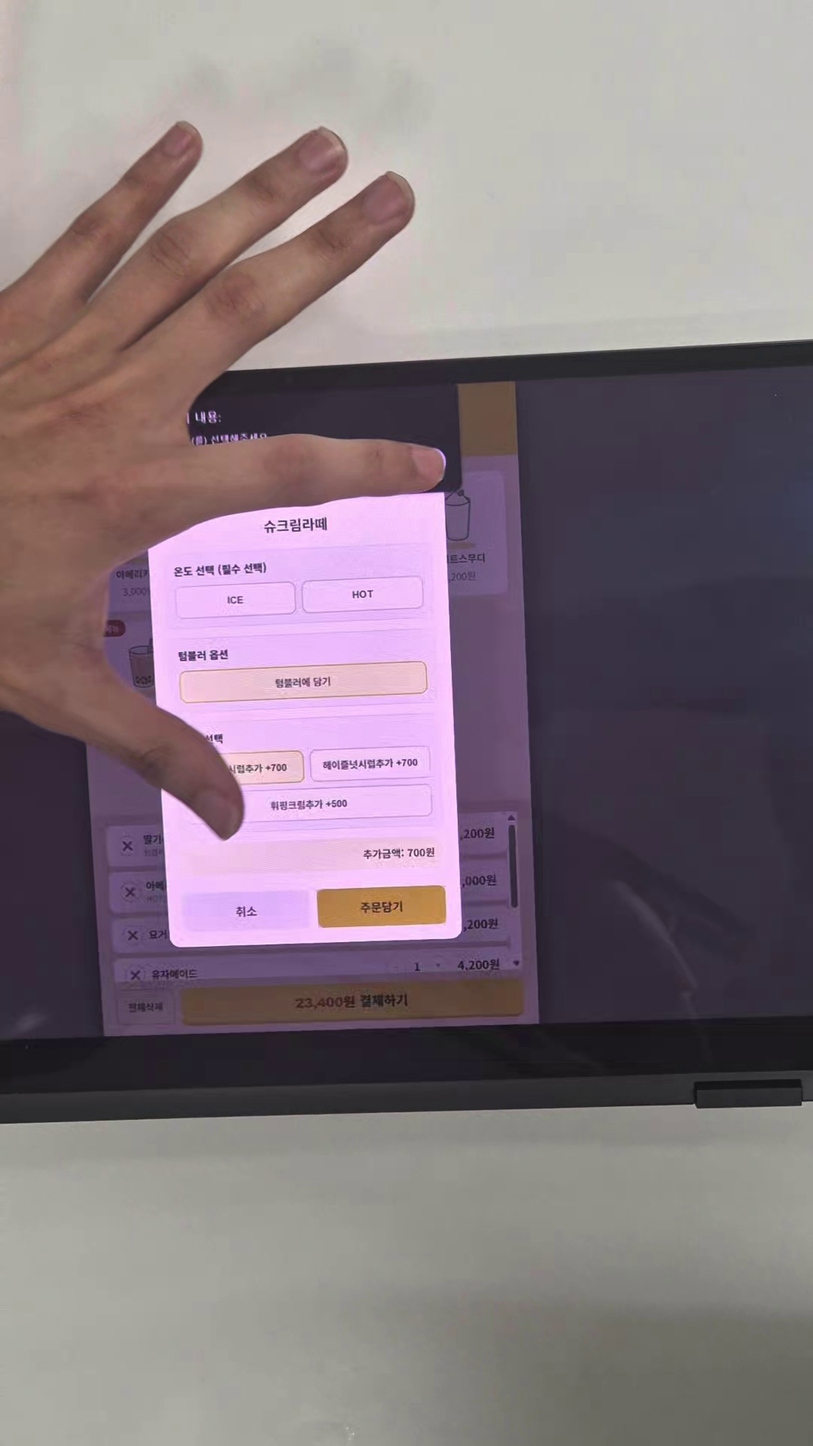action_button: (186, 891, 312, 936), (316, 886, 448, 928)
option_button: (196, 784, 433, 828), (180, 661, 425, 703), (177, 581, 297, 620), (309, 748, 433, 783), (303, 579, 423, 613), (191, 749, 303, 785)
popup_modal: (147, 486, 462, 950)
